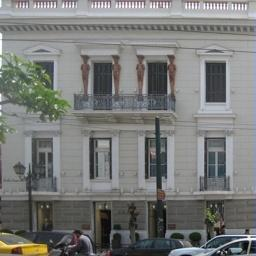building: (1, 0, 256, 232)
